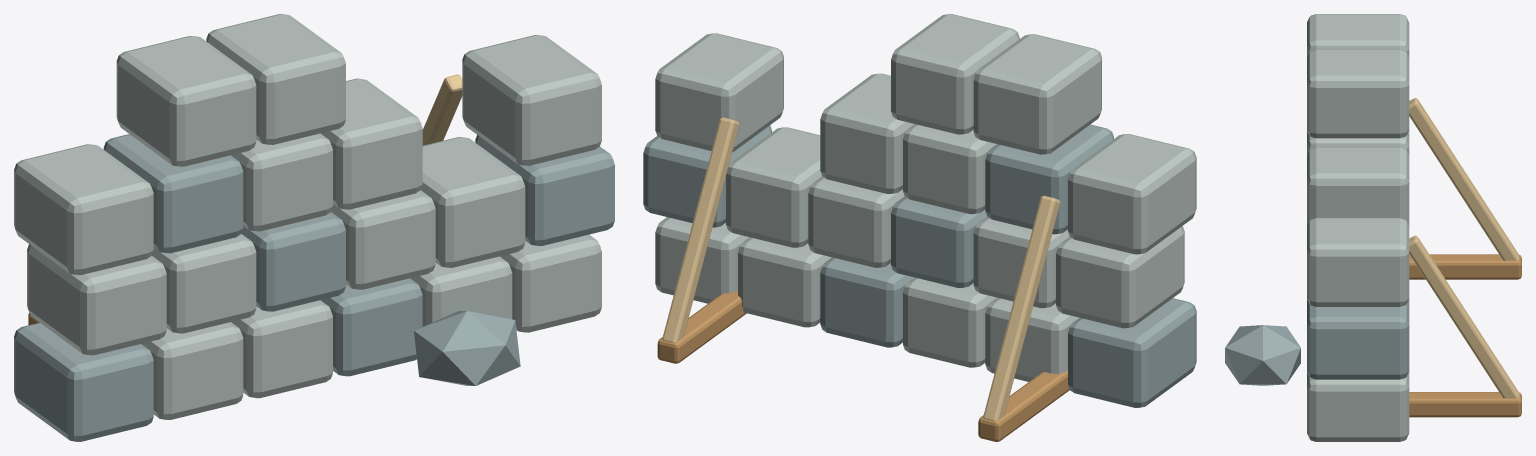
Rendered from S073_ruined_stone_wall.glb.
The picture shows the model from 3 angles, left to right: view 1: azimuth 30°, elevation 25°; view 2: azimuth 150°, elevation 25°; view 3: azimuth 270°, elevation 25°; orthographic projection. The views are drawn at different scales.
Parts seen in each view (by area): view 1: ruin_foam_block.006, ruin_foam_block.002, ruin_foam_block.018, ruin_foam_block, ruin_foam_block.010, ruin_foam_block.001, ruin_foam_block.015, ruin_foam_block.013, ruin_foam_block.005, ruin_foam_block.017, ruin_foam_block.004, ruin_foam_block.003 (+9 smaller); view 2: ruin_foam_block.002, ruin_foam_block.006, ruin_foam_block.018, ruin_foam_block, ruin_foam_block.010, ruin_foam_block.001, ruin_foam_block.015, ruin_foam_block.013, ruin_foam_block.005, ruin_foam_block.009, ruin_foam_block.012, ruin_foam_block.011 (+11 smaller); view 3: ruin_foam_block.010, ruin_foam_block.018, ruin_foam_block.017, ruin_foam_block.013, ruin_foam_block.016, fallen_block, ruin_foam_block.006, back_ruin_brace.001, back_ruin_brace, back_brace_foot.001, back_brace_foot, ruin_foam_block.009.
Boxes of the visible parts, x1=… form: ruin_foam_block.006: x1=116, y1=36, x2=256, y2=166; ruin_foam_block.002: x1=14, y1=144, x2=153, y2=275; ruin_foam_block.018: x1=462, y1=35, x2=601, y2=165; ruin_foam_block: x1=14, y1=322, x2=153, y2=441; ruin_foam_block.010: x1=206, y1=14, x2=345, y2=144; ruin_foam_block.001: x1=27, y1=244, x2=166, y2=355; ruin_foam_block.015: x1=421, y1=137, x2=525, y2=267; ruin_foam_block.013: x1=320, y1=78, x2=422, y2=209; ruin_foam_block.005: x1=103, y1=134, x2=243, y2=253; ruin_foam_block.017: x1=475, y1=135, x2=614, y2=245; ruin_foam_block.004: x1=152, y1=234, x2=256, y2=333; ruin_foam_block.003: x1=141, y1=322, x2=243, y2=419; ruin_foam_block.002: x1=1068, y1=134, x2=1196, y2=254; ruin_foam_block.006: x1=973, y1=34, x2=1101, y2=154; ruin_foam_block.018: x1=655, y1=33, x2=783, y2=152; ruin_foam_block: x1=1068, y1=298, x2=1196, y2=407; ruin_foam_block.010: x1=891, y1=14, x2=1019, y2=134; ruin_foam_block.001: x1=1056, y1=226, x2=1184, y2=328; ruin_foam_block.015: x1=726, y1=127, x2=821, y2=247; ruin_foam_block.013: x1=820, y1=73, x2=913, y2=193; ruin_foam_block.005: x1=985, y1=124, x2=1113, y2=234; ruin_foam_block.009: x1=903, y1=124, x2=996, y2=214; ruin_foam_block.012: x1=808, y1=176, x2=904, y2=267; ruin_foam_block.011: x1=820, y1=257, x2=914, y2=347; ruin_foam_block.010: x1=1307, y1=49, x2=1409, y2=138; ruin_foam_block.018: x1=1307, y1=218, x2=1409, y2=306; ruin_foam_block.017: x1=1307, y1=299, x2=1409, y2=379; ruin_foam_block.013: x1=1307, y1=147, x2=1409, y2=226; ruin_foam_block.016: x1=1307, y1=371, x2=1409, y2=441; fallen_block: x1=1225, y1=325, x2=1300, y2=385; ruin_foam_block.006: x1=1307, y1=14, x2=1409, y2=57; back_ruin_brace.001: x1=1409, y1=235, x2=1519, y2=398; back_ruin_brace: x1=1409, y1=98, x2=1519, y2=260; back_brace_foot.001: x1=1409, y1=392, x2=1521, y2=417; back_brace_foot: x1=1409, y1=254, x2=1521, y2=279; ruin_foam_block.009: x1=1307, y1=130, x2=1409, y2=155.
Size of the model in its own units: 2.75 by 1.6 by 1.59.
